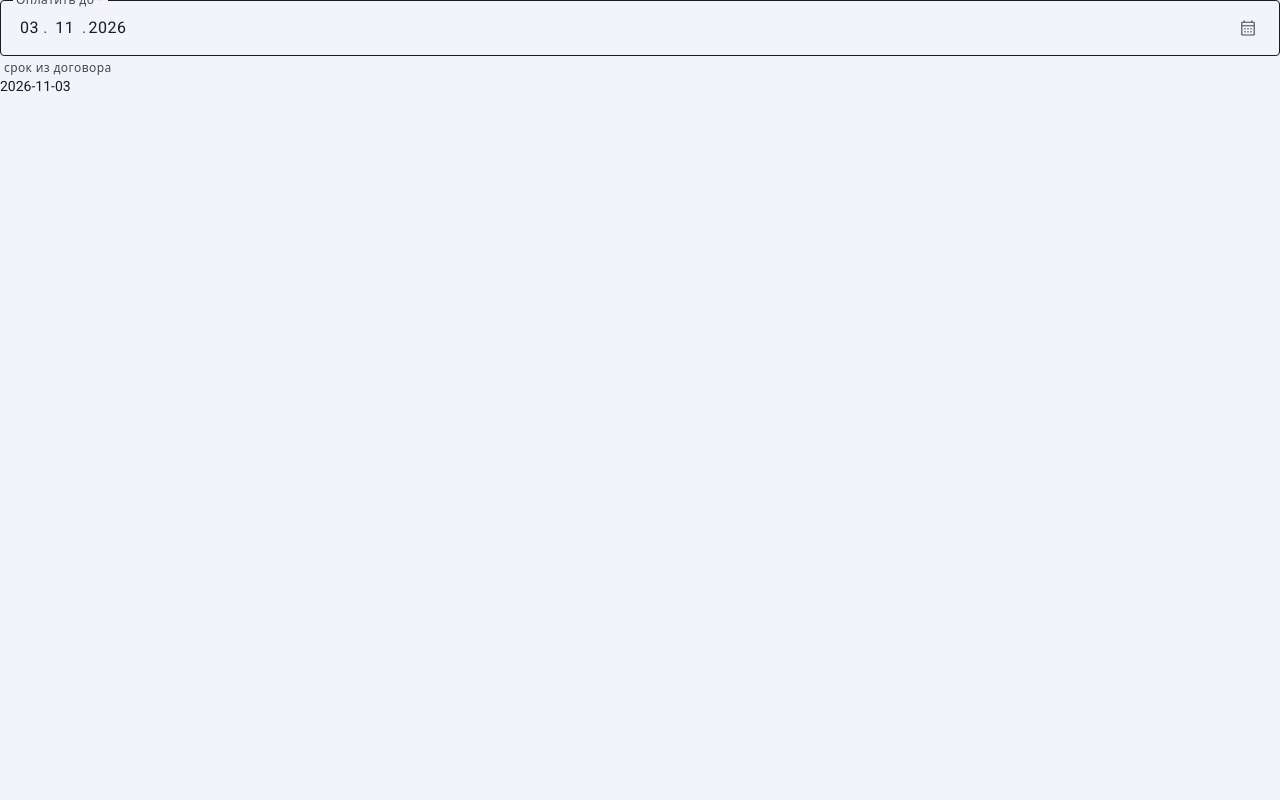
Test: DateInput: очистка › у обязательного и пустого поля крестика нет; у обязательного нет и «Очистить» в календаре
Click the button named "Открыть календарь" at (1248, 28), box [1232,12,1264,44]
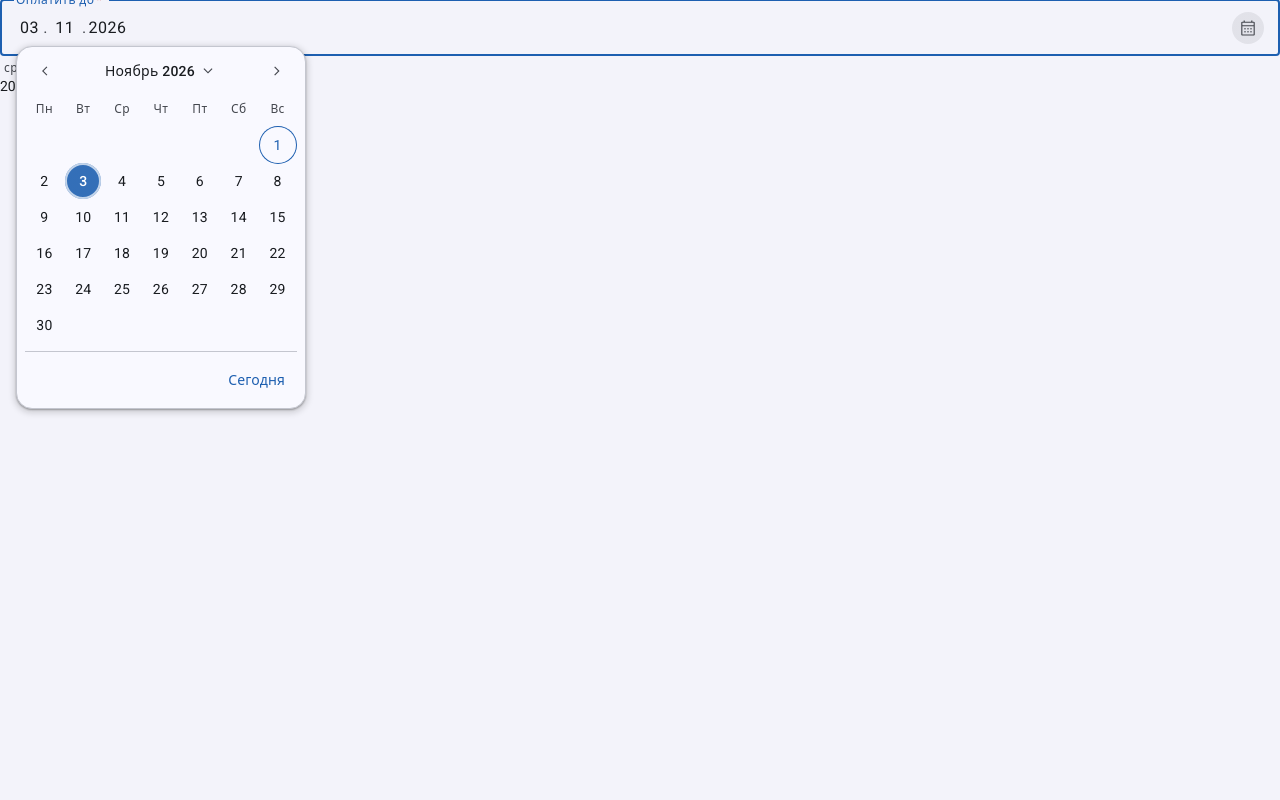
expect the button with aria-label "Сегодня, " is shown: met, box [216,360,297,400]
